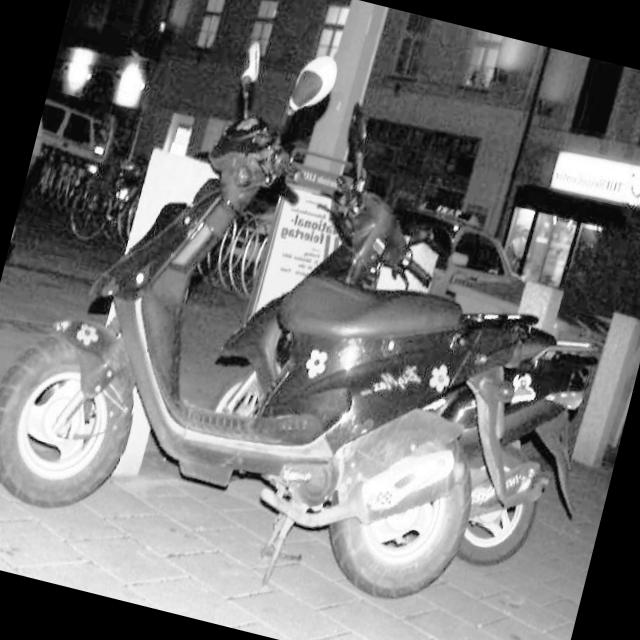Motorcycle: (0, 0, 601, 623), (171, 62, 640, 572)
